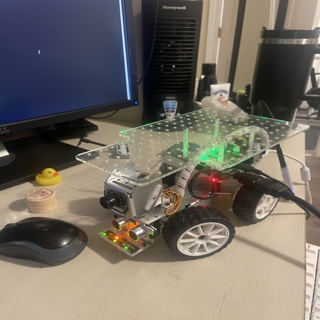vehicle: (75, 118, 296, 256)
